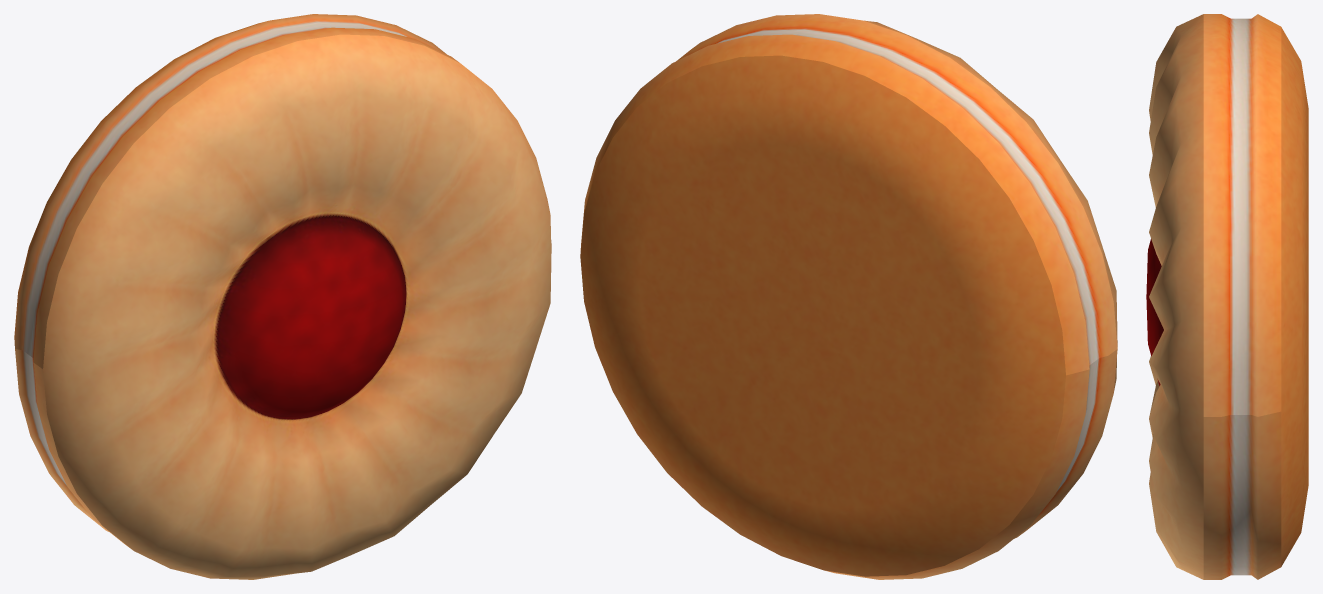
Rendered from JamBiscuit_1.fbx.
3 renders of one model, left to right at view 1: azimuth 30°, elevation 25°; view 2: azimuth 150°, elevation 25°; view 3: azimuth 270°, elevation 25°, orthographic. The views are drawn at different scales.
Parts seen in each view (by area): view 1: JamBiscuit_1; view 2: JamBiscuit_1; view 3: JamBiscuit_1.
Boxes of the visible parts, left/top/right/bottom form: JamBiscuit_1: left=14, top=14, right=551, bottom=579; JamBiscuit_1: left=580, top=14, right=1117, bottom=579; JamBiscuit_1: left=1146, top=14, right=1308, bottom=579.
Size of the model in its own units: 0.0514 by 0.0514 by 0.0147.
1 material, 1 textured.
